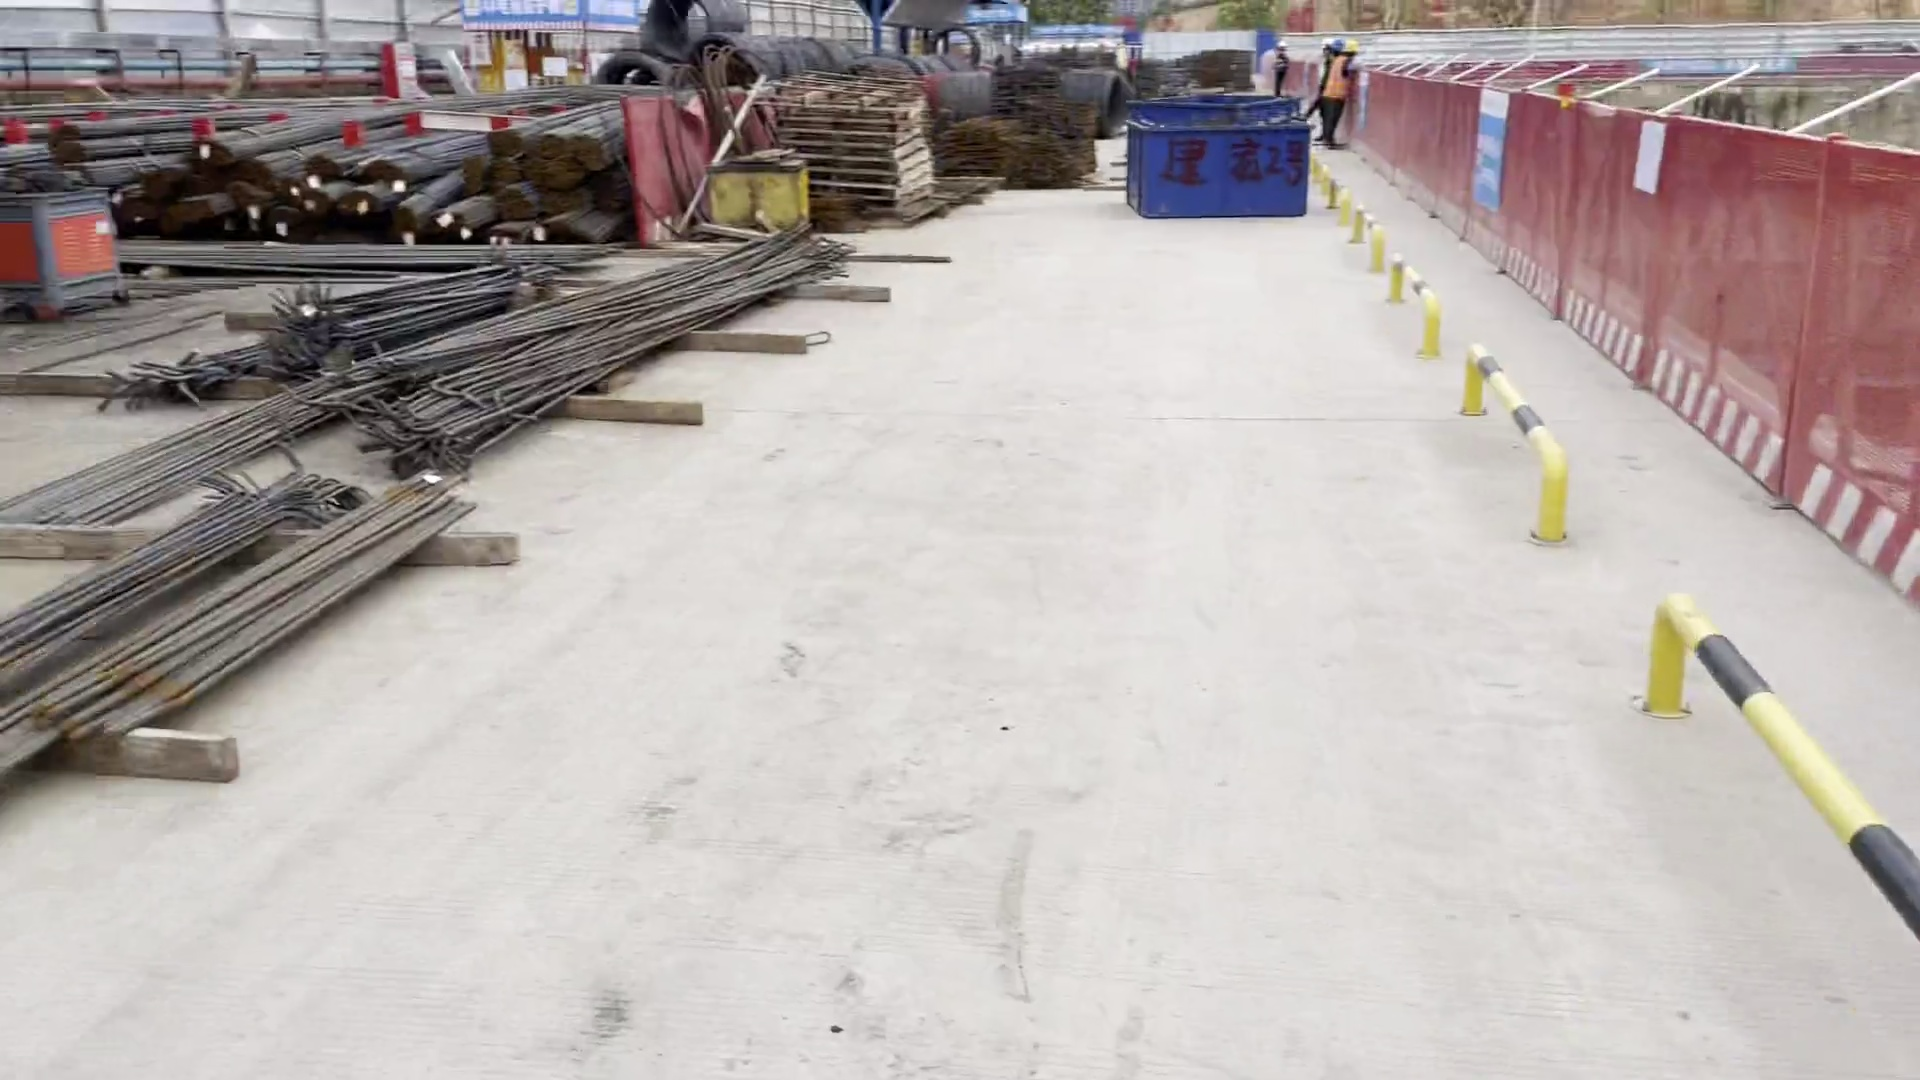fence: (1291, 61, 1920, 617)
helmet: (1339, 39, 1361, 55), (1325, 37, 1341, 54), (1273, 41, 1290, 51)
hopper: (1119, 117, 1332, 220), (1119, 86, 1296, 123)
person: (1321, 57, 1356, 144), (1313, 43, 1336, 92), (1271, 42, 1290, 93)
rebar: (1, 474, 493, 795), (311, 252, 819, 476), (189, 84, 541, 167), (91, 337, 277, 417), (67, 101, 272, 136), (375, 128, 500, 179), (487, 100, 584, 155), (390, 170, 465, 238), (86, 145, 204, 185), (62, 129, 194, 164), (544, 101, 608, 162), (545, 202, 639, 240), (429, 188, 509, 233), (160, 186, 231, 233), (544, 172, 616, 217), (574, 121, 632, 177), (231, 179, 285, 236), (336, 176, 404, 220), (295, 139, 359, 182), (267, 197, 317, 240), (491, 178, 543, 219), (525, 143, 575, 185), (308, 177, 345, 217), (276, 167, 310, 199)
vest: (1324, 55, 1357, 100), (1274, 51, 1288, 71)
